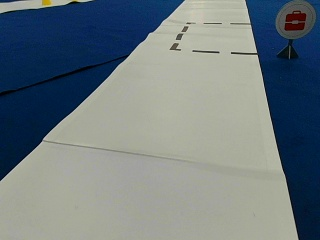company: (276, 2, 315, 38)
